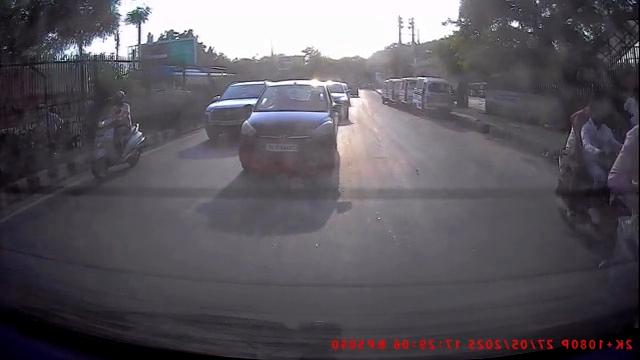motorcycle_with_helmet: (89, 87, 147, 184)
